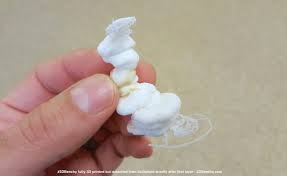fail: (98, 11, 179, 136), (157, 105, 222, 151)
